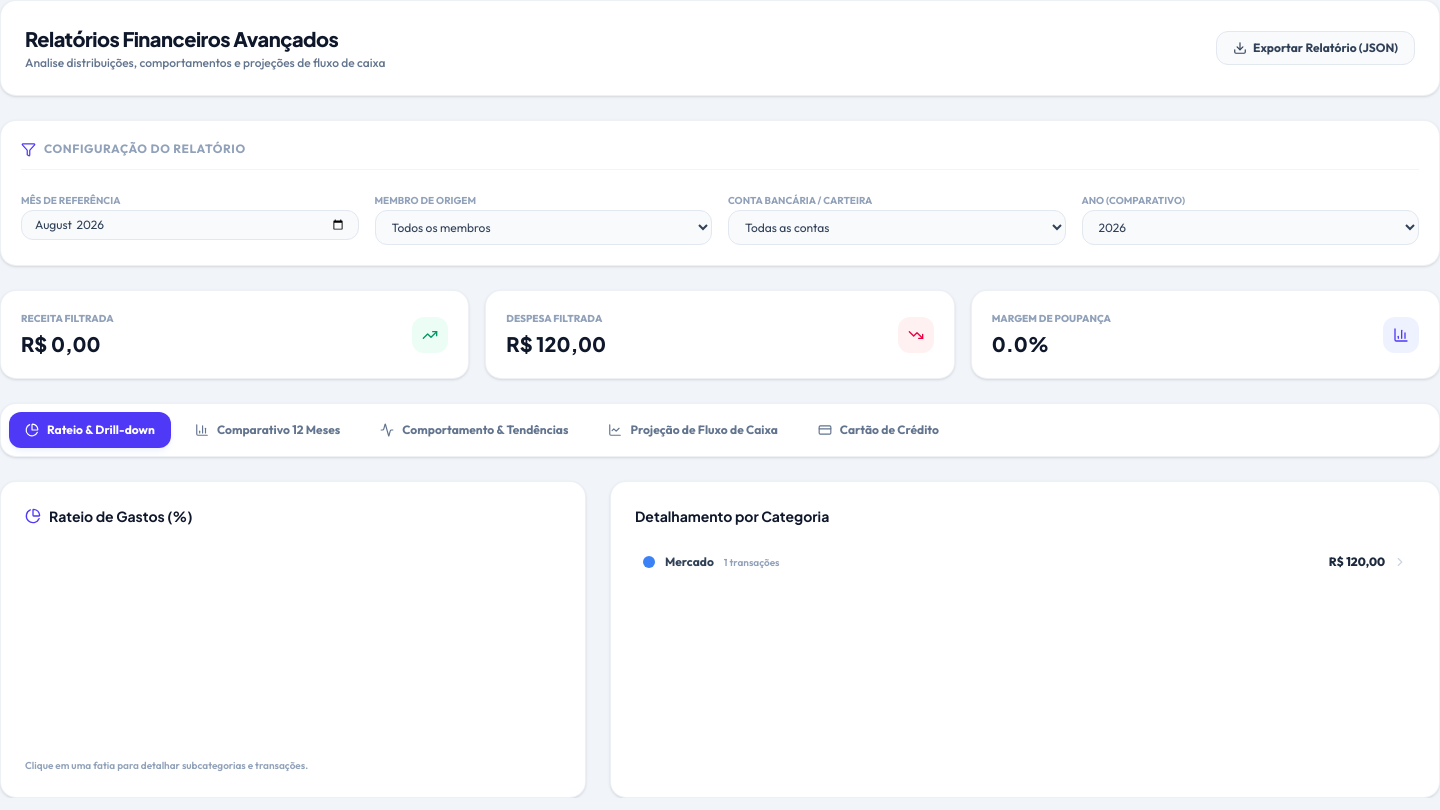
it: Reports › abre a aba Cartão de Crédito e mostra gastos e faturas
Click the button "Cartão de Crédito": [878, 430] box x1=802 y1=412 x2=955 y2=448
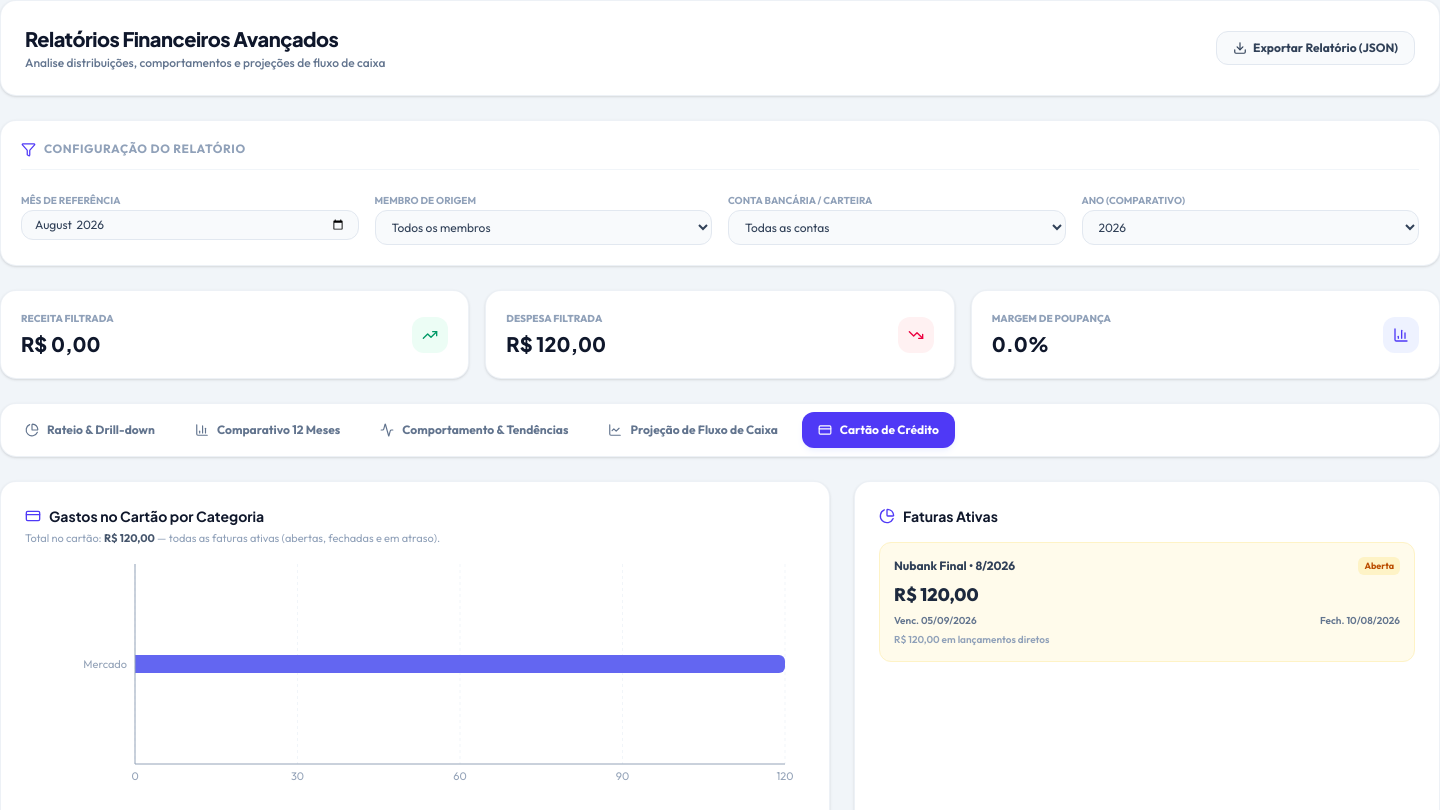
Now the heading "Gastos no Cartão por Categoria" is shown, box x1=49 y1=506 x2=264 y2=526
Now the heading "Faturas Ativas" is shown, box x1=903 y1=506 x2=998 y2=526
Now the text "Nubank Final • 8/2026" is shown, box x1=894 y1=558 x2=1015 y2=574
